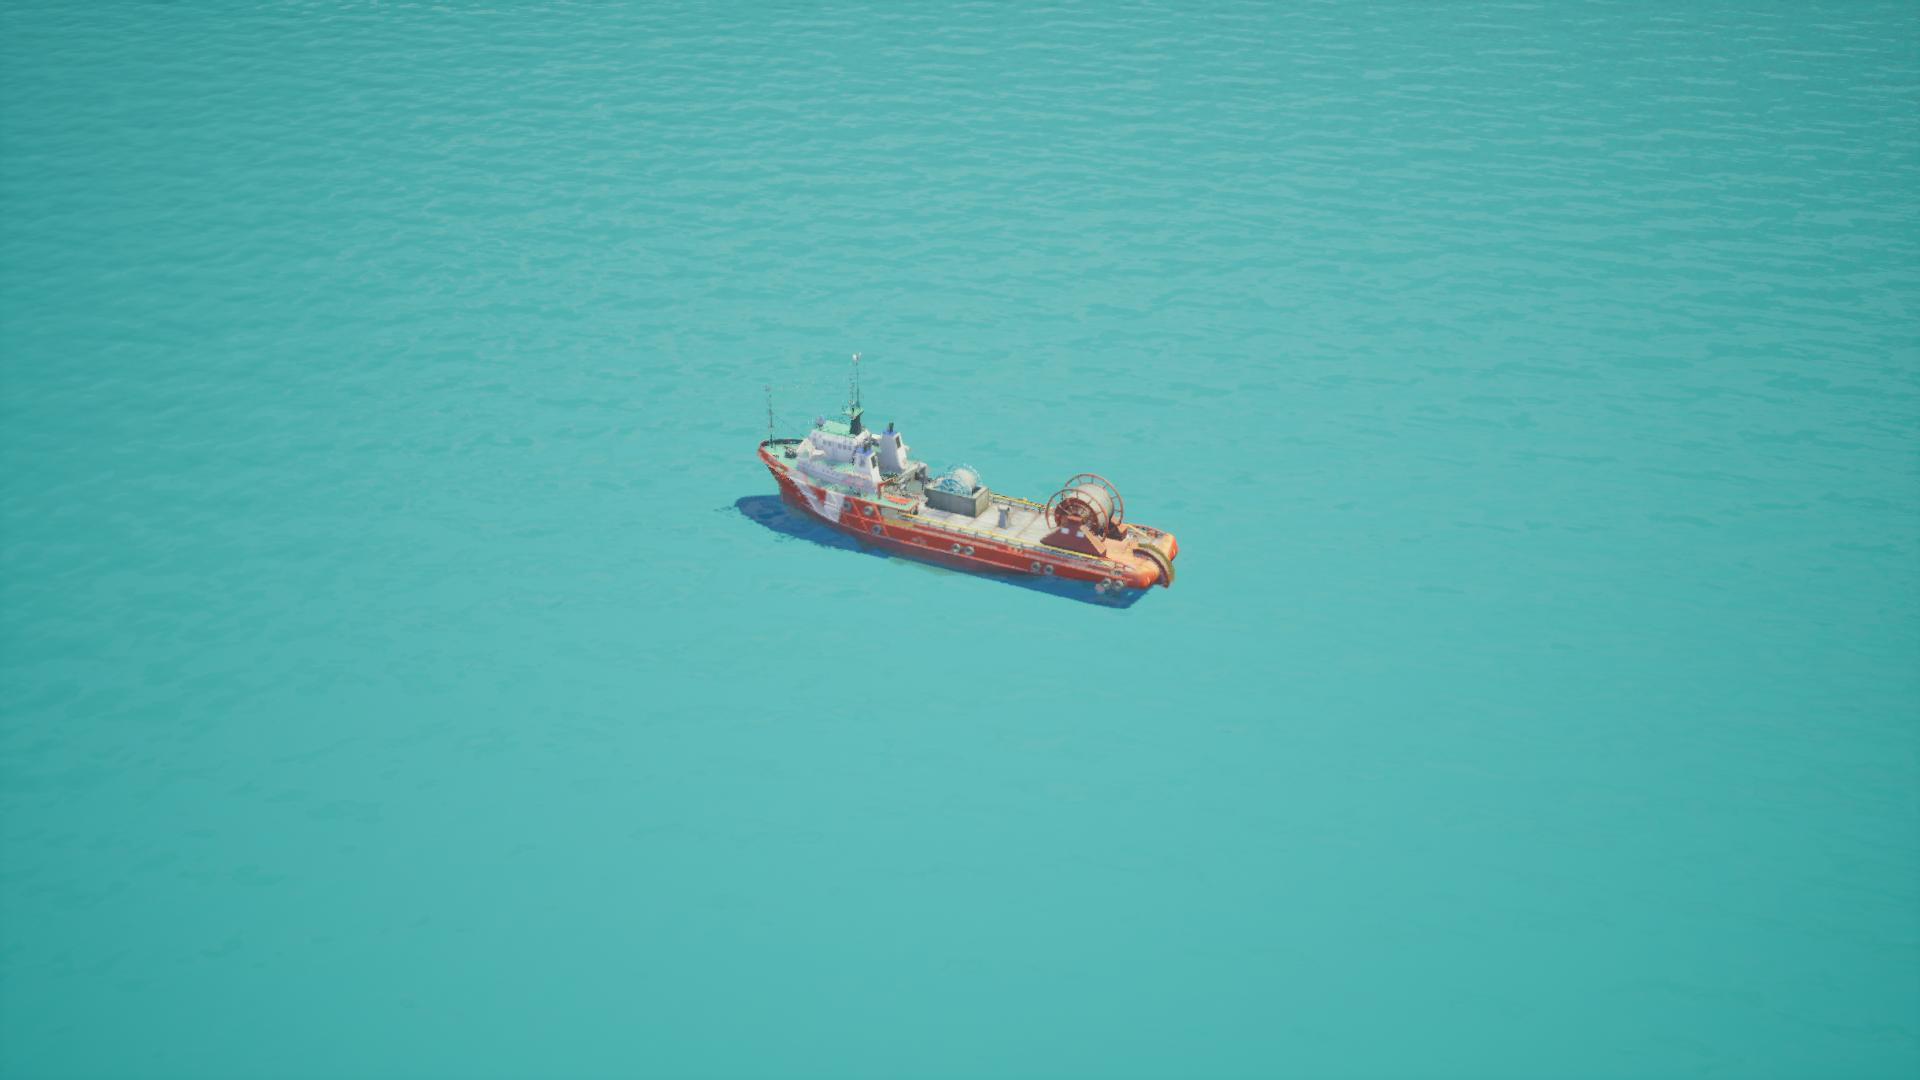Tug Boat: (736, 382, 1179, 615)
